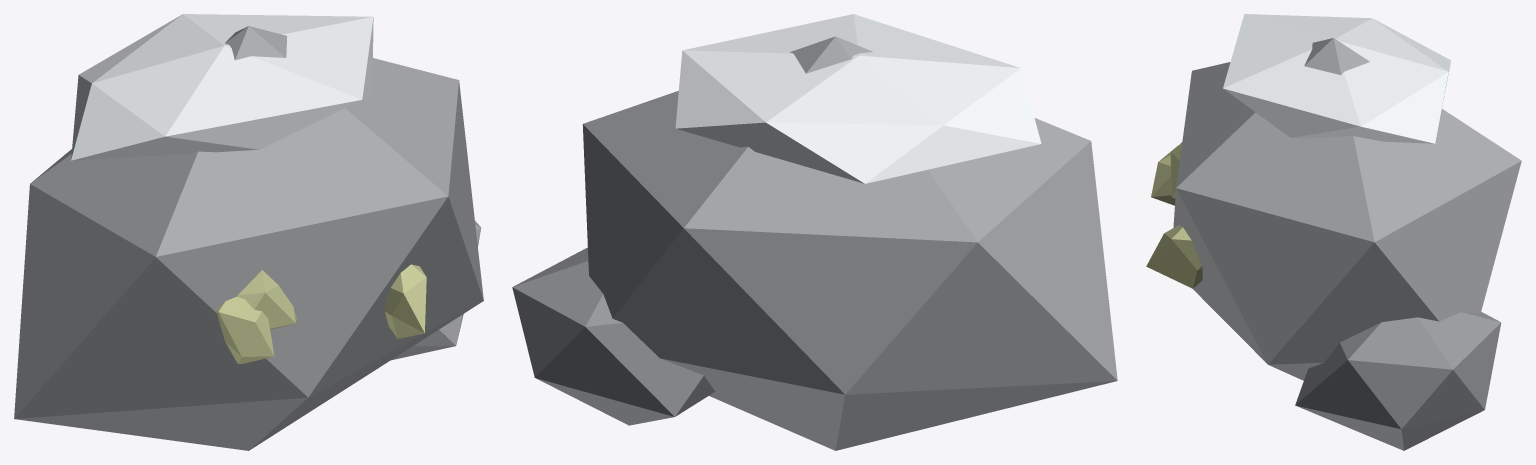
File: ErraticBoulder.glb
The picture shows the model from 3 angles, left to right: view 1: azimuth 30°, elevation 25°; view 2: azimuth 150°, elevation 25°; view 3: azimuth 270°, elevation 25°; orthographic projection. The views are drawn at different scales.
Visible parts, largest first — view 1: Erratic, Snow cap.002, Lichen.004, Lichen.005, Lichen.003, Erratic shoulder; view 2: Erratic, Snow cap.002, Erratic shoulder; view 3: Erratic, Snow cap.002, Erratic shoulder, Lichen.005, Lichen.004, Lichen.003.
Part boxes in pixels (<box>): Erratic: <box>14,26,483,450</box>; Snow cap.002: <box>71,14,373,160</box>; Lichen.004: <box>216,296,274,363</box>; Lichen.005: <box>384,264,426,338</box>; Lichen.003: <box>237,270,296,329</box>; Erratic shoulder: <box>391,221,481,360</box>; Erratic: <box>582,36,1117,450</box>; Snow cap.002: <box>675,14,1041,183</box>; Erratic shoulder: <box>512,247,715,425</box>; Erratic: <box>1173,38,1521,380</box>; Snow cap.002: <box>1223,14,1450,143</box>; Erratic shoulder: <box>1295,312,1501,450</box>; Lichen.005: <box>1146,225,1202,288</box>; Lichen.004: <box>1151,145,1178,205</box>; Lichen.003: <box>1170,142,1182,198</box>.
Size of the model in its own units: 4.35 by 3.35 by 3.2.
